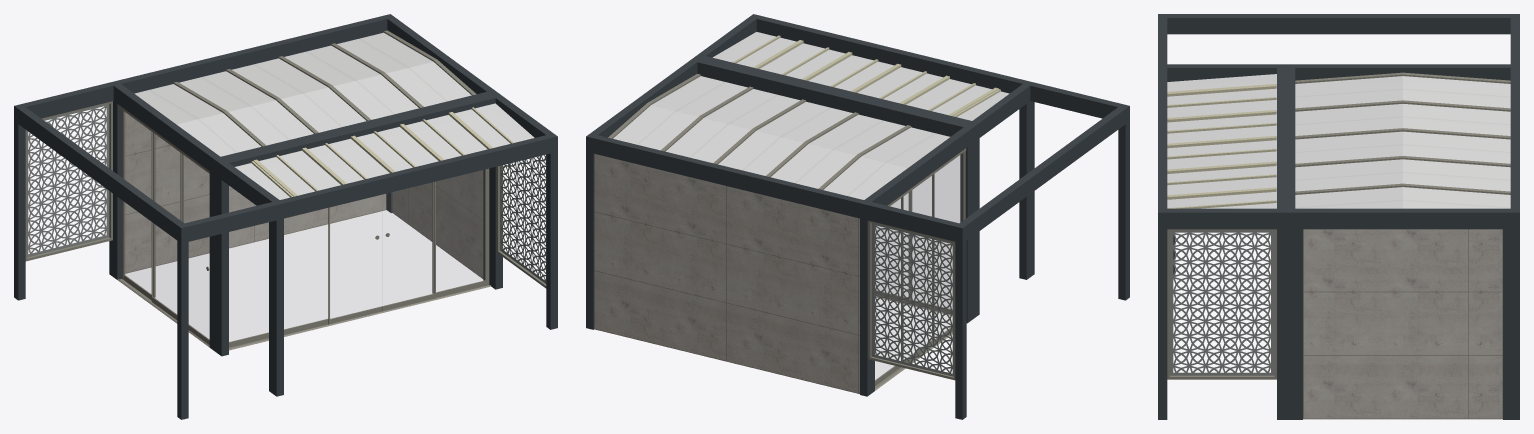
The model's file is agp9_matdarkgrey.fbx.
The picture shows the model from 3 angles, left to right: view 1: azimuth 30°, elevation 25°; view 2: azimuth 150°, elevation 25°; view 3: azimuth 270°, elevation 25°; orthographic projection. The views are drawn at different scales.
Visible parts, largest first — view 1: agp9_matdarkgray; view 2: agp9_matdarkgray; view 3: agp9_matdarkgray.
Boxes of the visible parts, x1,y1,x2,y2 form: agp9_matdarkgray: [14, 14, 557, 419]; agp9_matdarkgray: [586, 14, 1129, 419]; agp9_matdarkgray: [1158, 14, 1519, 419].
Size of the model in its own units: 514 by 250 by 395.
Materials: 15 (10 with a texture image).
